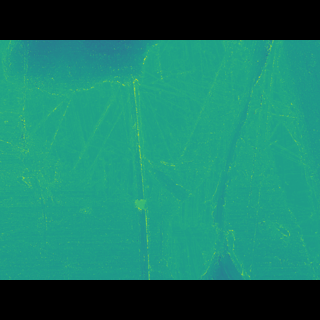Loch: (10, 69, 282, 197), (160, 132, 320, 250)
